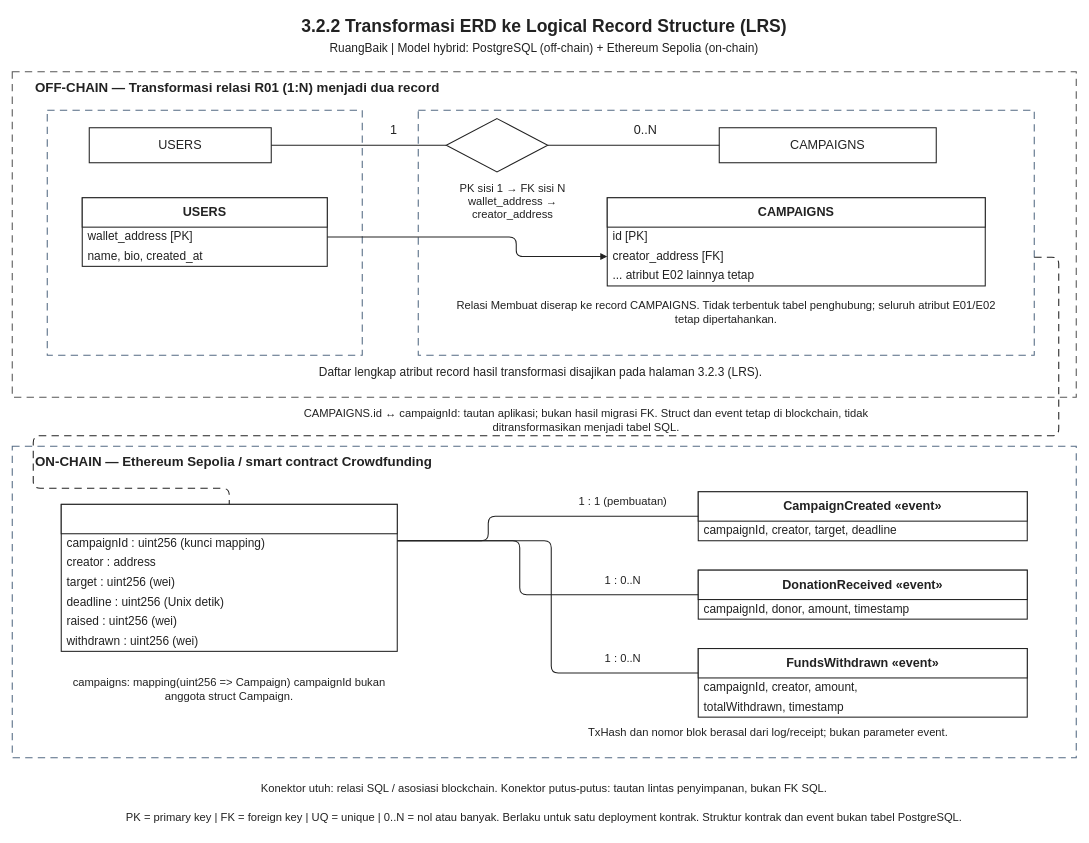
This 1089x843 diagram has some shape labels left out. Each missing label, with the centre of its shape:
Campaign «struct dalam mapping»: [228,519]
Membuat: [496,145]
